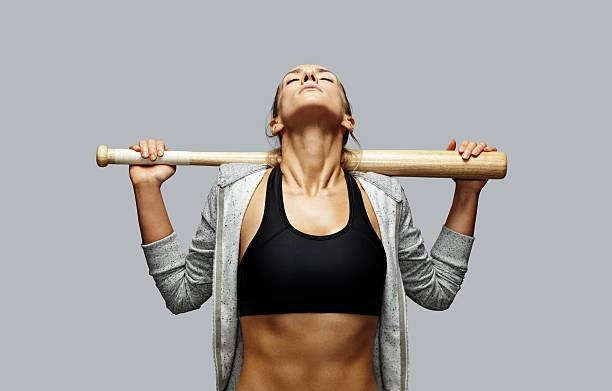bita: (96, 143, 507, 178)
